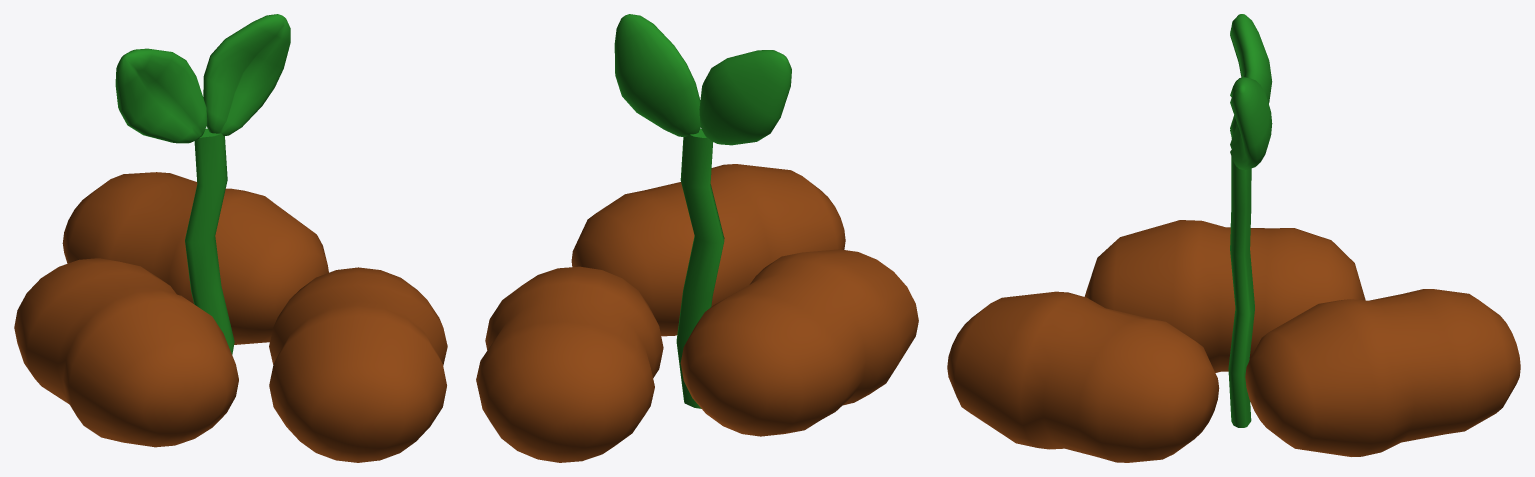
File: SeedV1Sprout.obj
The picture shows the model from 3 angles, left to right: view 1: azimuth 30°, elevation 25°; view 2: azimuth 150°, elevation 25°; view 3: azimuth 270°, elevation 25°; orthographic projection.
Parts seen in each view (by area): view 1: pSphere4, pCylinder2; view 2: pSphere4, pCylinder2; view 3: pSphere4, pCylinder2.
Part boxes in pixels (x1,y1,x2,y2): pSphere4: (14, 172, 447, 462); pCylinder2: (115, 14, 290, 354); pSphere4: (476, 164, 918, 462); pCylinder2: (614, 14, 791, 408); pSphere4: (947, 220, 1520, 462); pCylinder2: (1228, 14, 1272, 427).
Bounding box in the file's own units: 0.5714 × 0.5955 × 0.8349.
